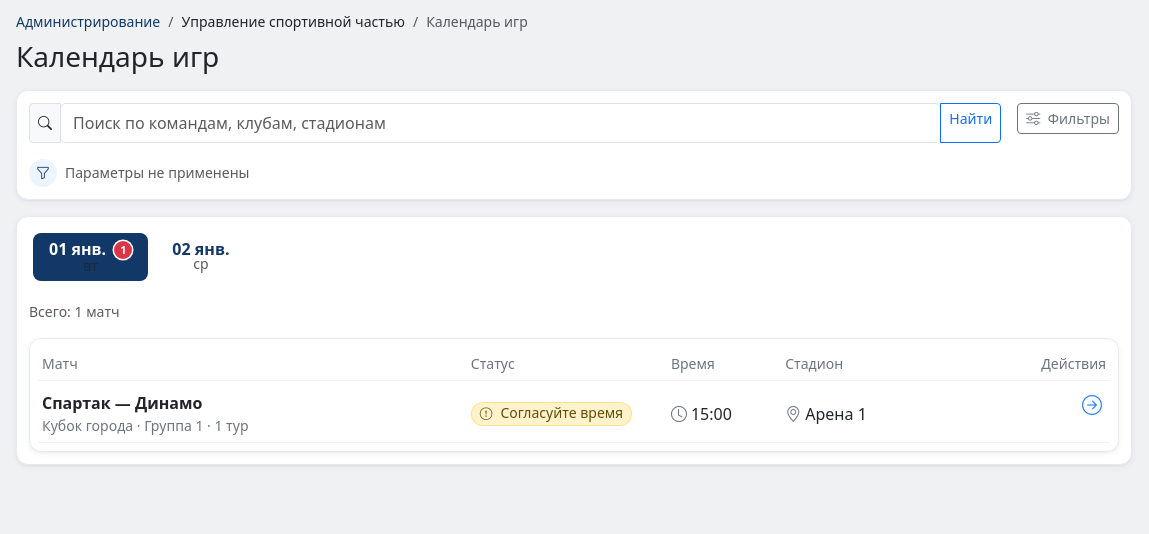
it: Admin sports calendar view › counts search as active parameter in summary
The image size is (1149, 534).
Type "Спартак" into the search field with placeholder "Поиск по командам, клубам, стадионам" at (501, 123), box [60,103,941,143]
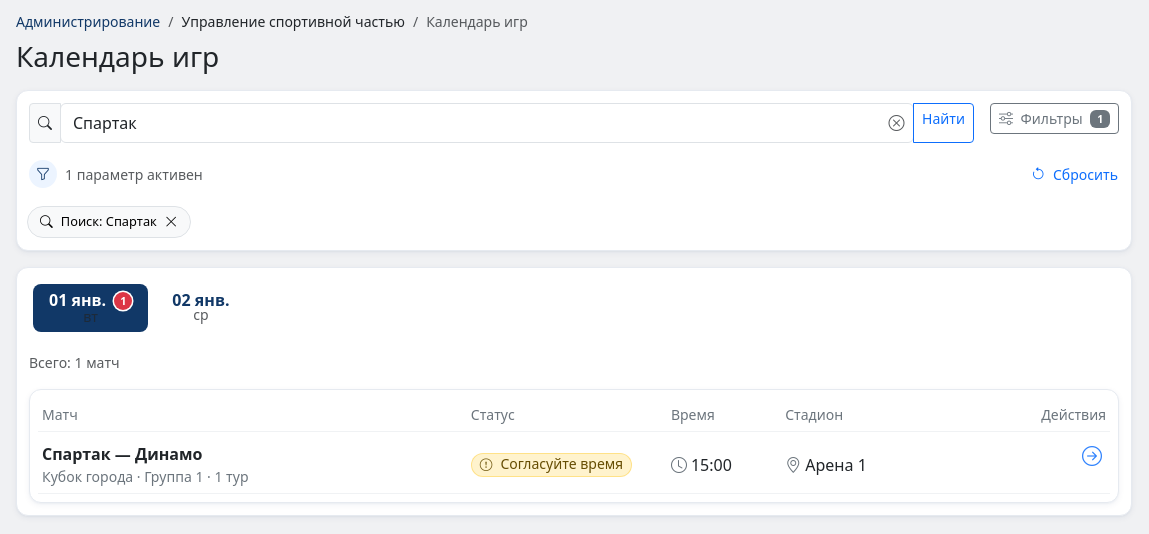
Result: the text "1 параметр активен" is shown at [65,165,203,184]
Result: the text "Параметры не применены" is gone
